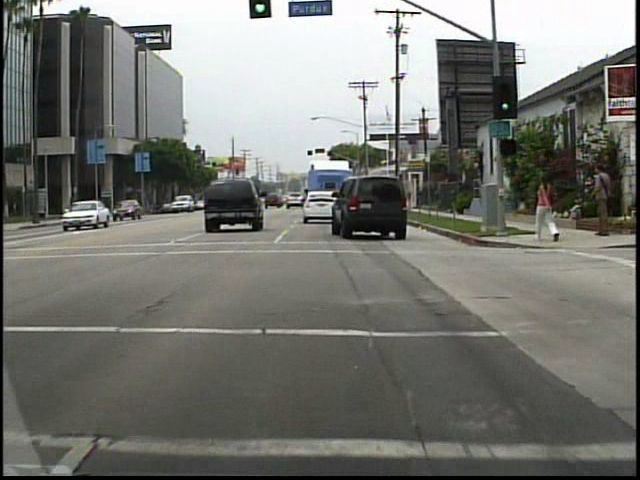person: (586, 156, 617, 242), (526, 170, 561, 246)
